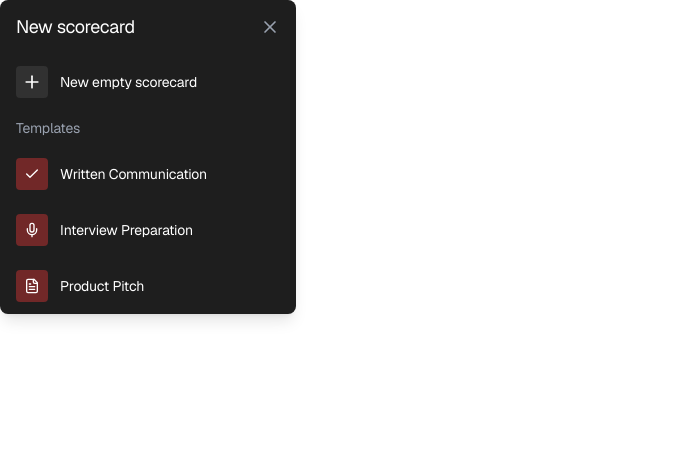
Test: ScorecardPickerDialog Component › Template Preview Functionality › should show template preview on hover for standard templates
# Hover over template
Hover over the text "Written Communication" at (112, 174), box [16, 158, 207, 190]
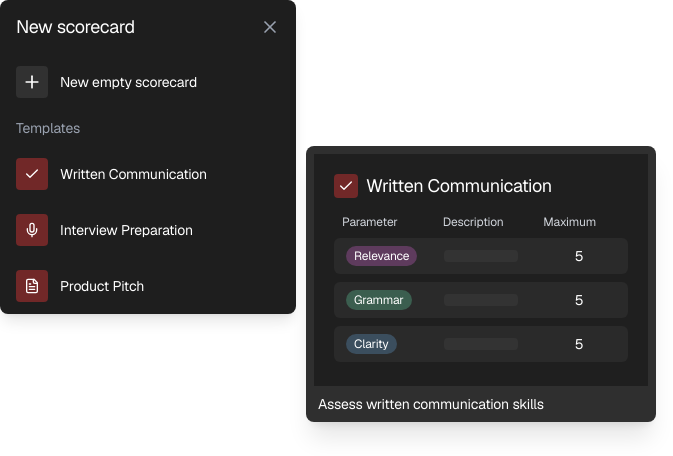
Check: the text "Parameter" is shown, box [342, 214, 398, 230]
Check: the text "Description" is shown, box [443, 214, 504, 230]
Check: the text "Maximum" is shown, box [543, 214, 596, 230]
